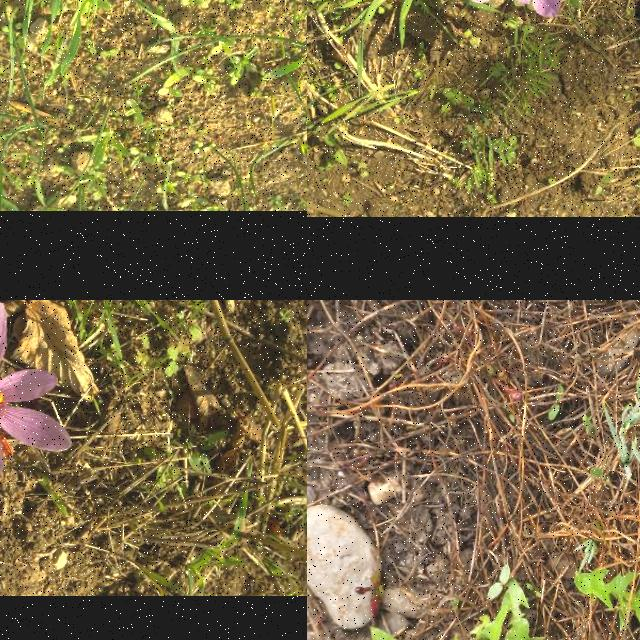flower: (0, 302, 73, 480)
